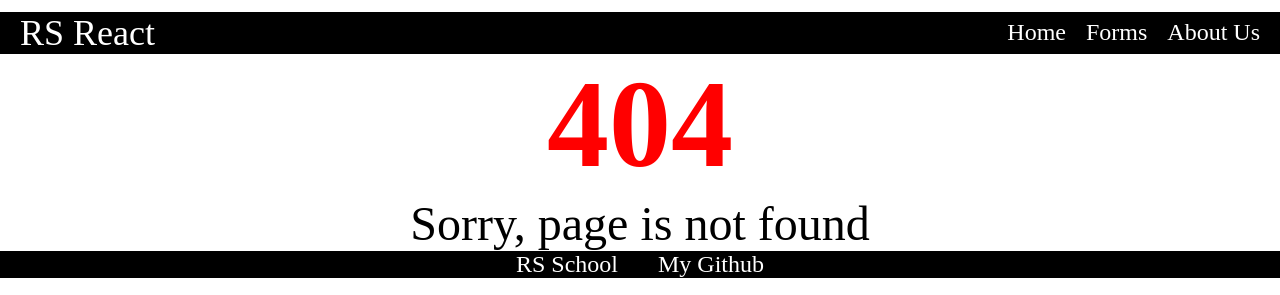
Test: full app rendering/navigating
Expected: the heading "404" is shown, [547,54,733,196]
Note: About page
Click the link "About Us": (1214, 33) [1167,19,1260,47]
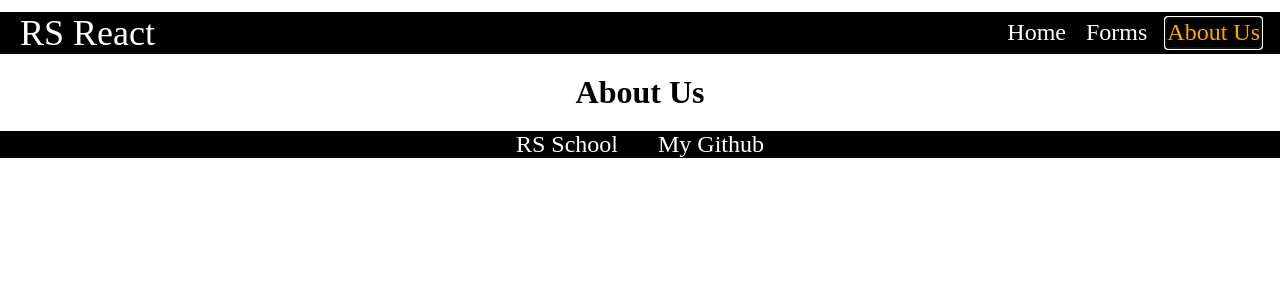
Expected: the heading "About Us" is shown, [576,74,704,110]
Note: Main page
Click the link "Home": (1037, 33) [1007,19,1066,47]
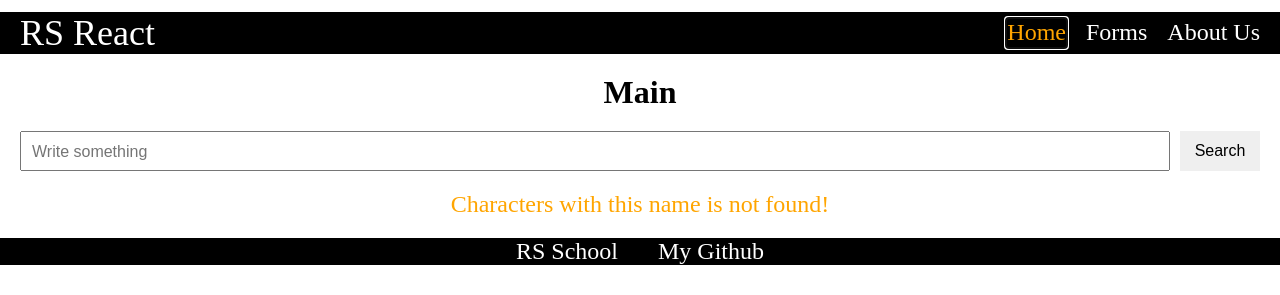
Expected: the heading "Main" is shown, [604,74,676,110]
